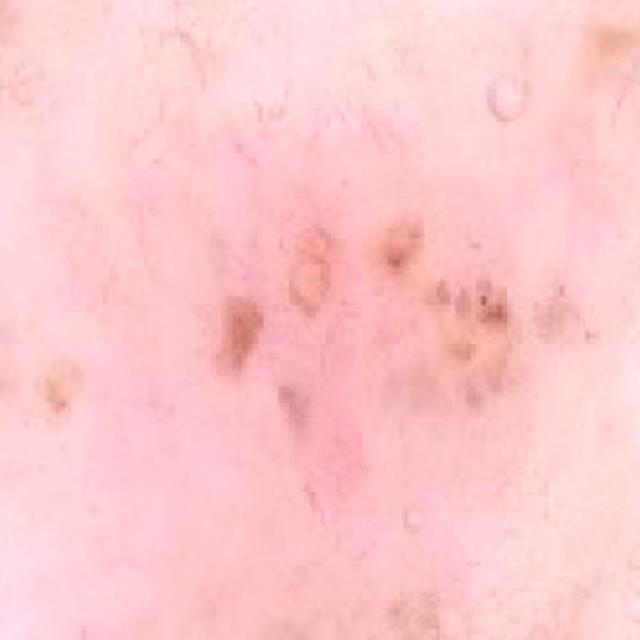BCC: (80, 96, 605, 541)
